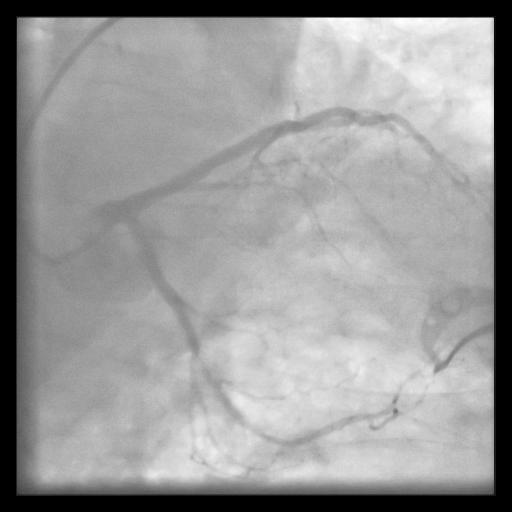Stenosis: (196, 356, 227, 401)
